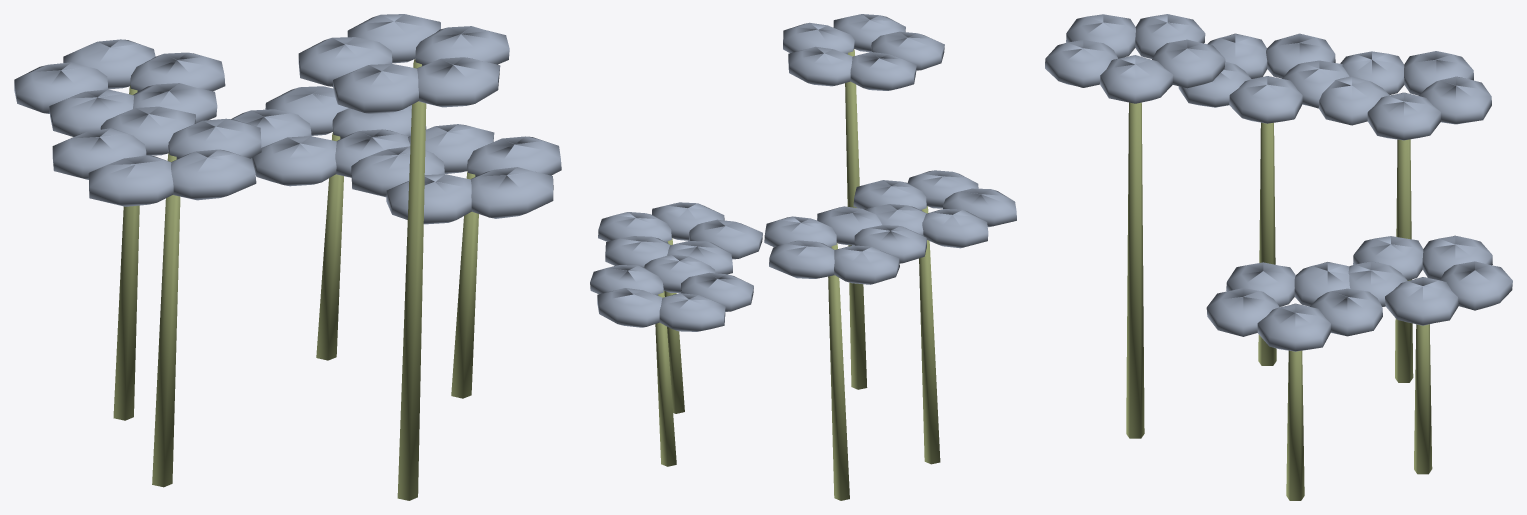
Rendered from SM_Flowers_01_UV_0704.fbx.
3 renders of one model, left to right at view 1: azimuth 30°, elevation 25°; view 2: azimuth 150°, elevation 25°; view 3: azimuth 270°, elevation 25°, orthographic. The views are drawn at different scales.
Parts seen in each view (by area): view 1: SM_Flowers_01_UV_0704; view 2: SM_Flowers_01_UV_0704; view 3: SM_Flowers_01_UV_0704.
Boxes of the visible parts, x1,y1,x2,y2 form: SM_Flowers_01_UV_0704: (14, 14, 561, 500); SM_Flowers_01_UV_0704: (590, 14, 1016, 500); SM_Flowers_01_UV_0704: (1045, 14, 1512, 500).
Size of the model in its own units: 99.27 by 91.05 by 84.7.
